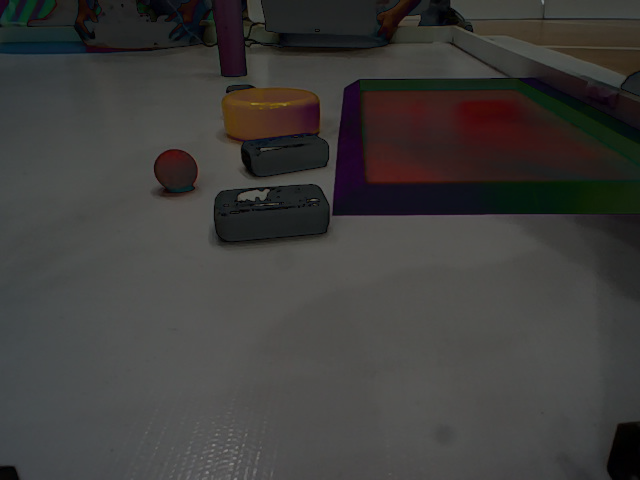black: (209, 188, 337, 243), (237, 136, 329, 171)
kuang: (334, 70, 640, 219)
red: (151, 147, 205, 194)
yellow: (214, 88, 329, 136)
zhuzi: (210, 1, 254, 79)
